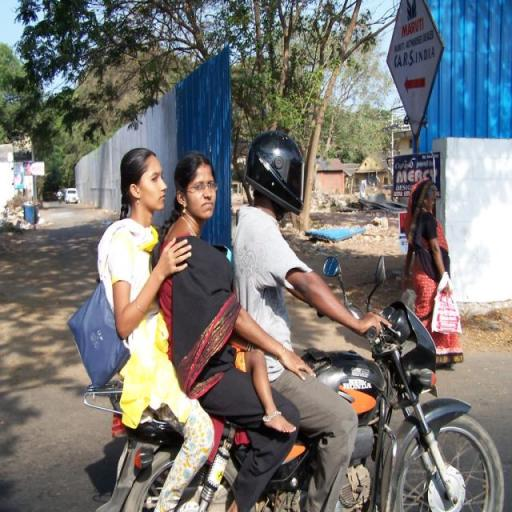tripple riding: (112, 136, 378, 508)
